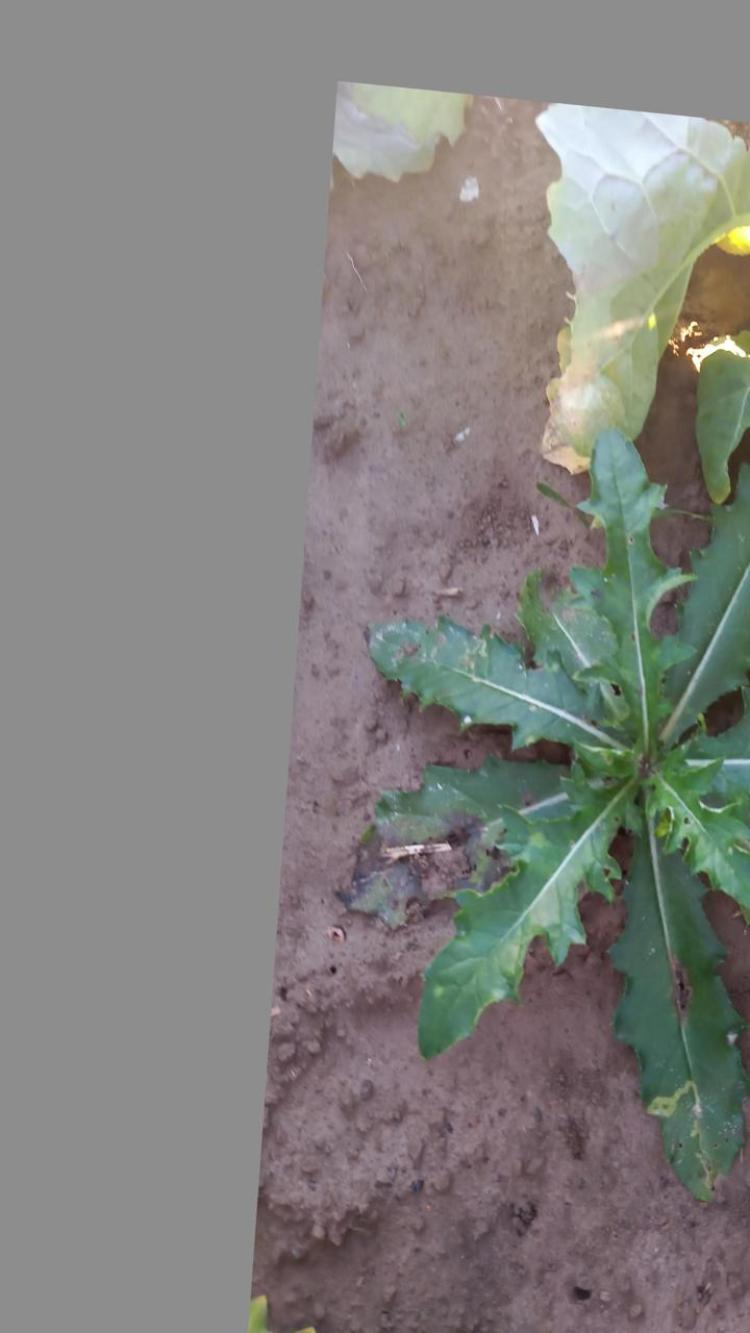bodyak: (387, 418, 750, 1206)
